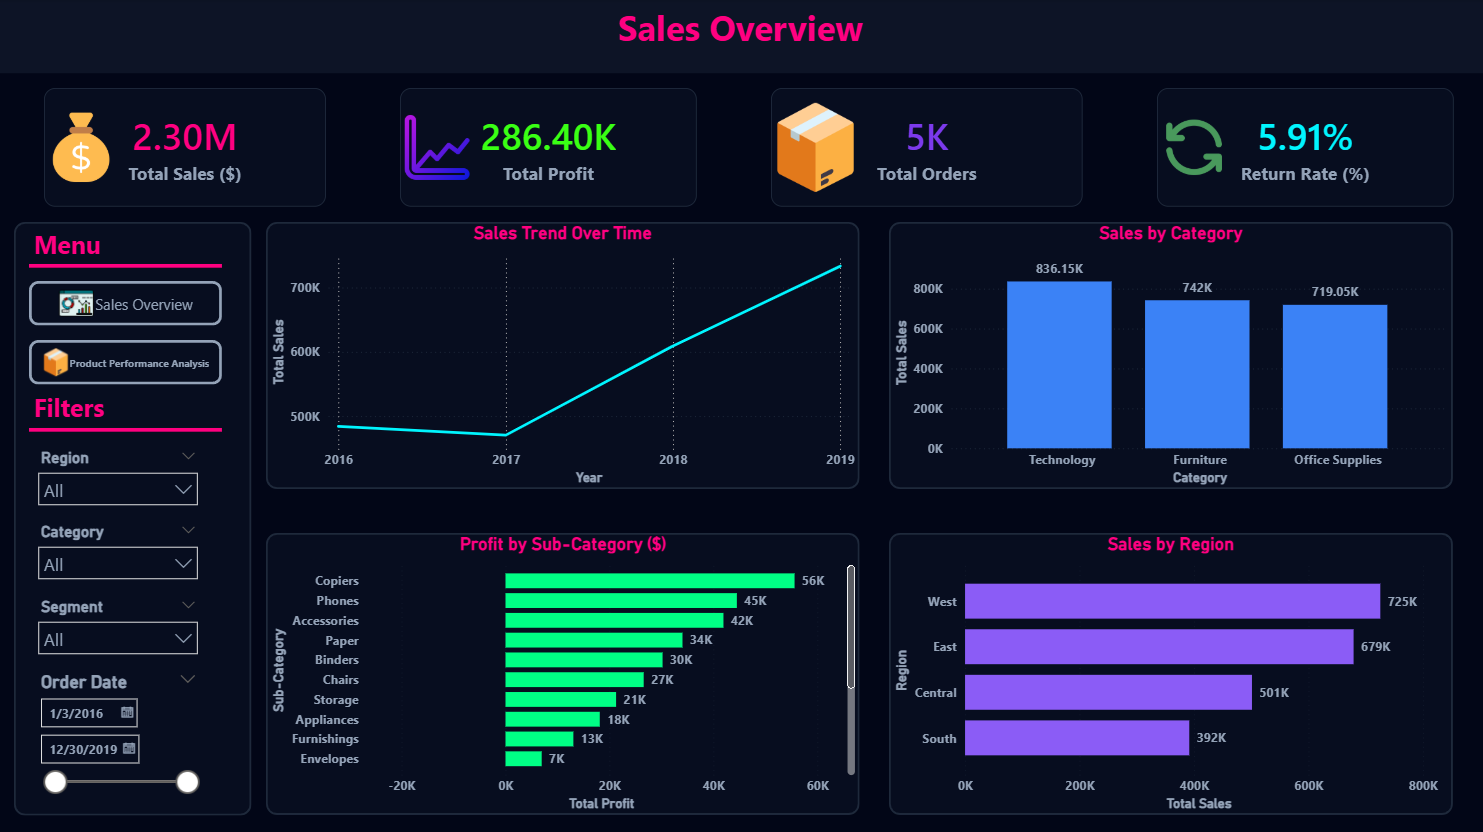

This screenshot's page, from the dashboard's own definition file:
{"tool":"powerbi","page":{"name":"Sales Overview","canvas":[1600,900],"ordinal":0},"visuals":[{"type":"shape","box":[0,0,1600,80],"z":0},{"type":"cardVisual","fields":{"Data":["Measures (2).Total Sales"]},"box":[48,96,304,128],"z":1000},{"type":"cardVisual","fields":{"Data":["Measures (2).Total Profit"]},"box":[432,96,320,128],"z":2000},{"type":"cardVisual","fields":{"Data":["Measures (2).Total Orders"]},"box":[832,96,336,128],"z":3000},{"type":"cardVisual","fields":{"Data":["Measures (2).Return Rate"]},"box":[1248,96,320,128],"z":4000},{"type":"shape","box":[288,240,640,288],"z":5000},{"type":"lineChart","title":"Sales Trend Over Time","fields":{"Category":["Orders.Order Date.Variation.Date Hierarchy.Year","Orders.Order Date.Variation.Date Hierarchy.Quarter","Orders.Order Date.Variation.Date Hierarchy.Month","Orders.Order Date.Variation.Date Hierarchy.Day"],"Y":["Measures (2).Total Sales"]},"box":[288,240,640,288],"z":6000},{"type":"shape","box":[960,240,608,288],"z":7000},{"type":"clusteredColumnChart","title":"Sales by Category","fields":{"Category":["Orders.Category"],"Y":["Measures (2).Total Sales"]},"box":[960,240,608,288],"z":8000},{"type":"shape","box":[288,576,640,304],"z":9000},{"type":"shape","box":[960,576,608,304],"z":10000},{"type":"clusteredBarChart","title":"Profit by Sub-Category ($)","fields":{"Category":["Orders.Sub-Category"],"Y":["Measures (2).Total Profit"]},"box":[288,576,640,304],"z":11000},{"type":"clusteredBarChart","title":"Sales by Region","fields":{"Category":["Orders.Region"],"Y":["Measures (2).Total Sales"]},"box":[960,576,608,304],"z":12000},{"type":"shape","box":[16,240,256,640],"z":13000},{"type":"textbox","box":[32,240,208,48],"z":14000},{"type":"shape","box":[32,272,208,32],"z":15000},{"type":"slicer","fields":{"Values":["Orders.Region"]},"box":[32,480,192,80],"z":16000},{"type":"slicer","fields":{"Values":["Orders.Category"]},"box":[32,560,192,80],"z":17000},{"type":"slicer","fields":{"Values":["Orders.Segment"]},"box":[32,640,192,80],"z":18000},{"type":"slicer","title":"Order Date","fields":{"Values":["Orders.Order Date"]},"box":[32,720,192,160],"z":19000},{"type":"textbox","box":[352,0,896,80],"z":20000},{"type":"image","box":[48,96,80,128],"z":21000},{"type":"image","box":[432,96,80,128],"z":22000},{"type":"image","box":[832,96,96,128],"z":23000},{"type":"image","box":[1248,96,80,128],"z":24000},{"type":"shape","box":[32,448,208,32],"z":25000},{"type":"textbox","box":[32,416,208,48],"z":26000},{"type":"actionButton","box":[32,304,208,48],"z":27000},{"type":"actionButton","box":[32,368,208,48],"z":28000}]}

Visuals, with their boxes in screenshot pixels (x1, y1, x2, y2), scaled from the page's 1600x900 canvas onto the 1483x832 screenshot:
shape: (left=0, top=0, right=1482, bottom=74)
cardVisual - Measures (2).Total Sales: (left=44, top=89, right=326, bottom=207)
cardVisual - Measures (2).Total Profit: (left=400, top=89, right=697, bottom=207)
cardVisual - Measures (2).Total Orders: (left=771, top=89, right=1083, bottom=207)
cardVisual - Measures (2).Return Rate: (left=1157, top=89, right=1453, bottom=207)
shape: (left=267, top=222, right=860, bottom=488)
"Sales Trend Over Time" lineChart: (left=267, top=222, right=860, bottom=488)
shape: (left=890, top=222, right=1453, bottom=488)
"Sales by Category" clusteredColumnChart: (left=890, top=222, right=1453, bottom=488)
shape: (left=267, top=532, right=860, bottom=814)
shape: (left=890, top=532, right=1453, bottom=814)
"Profit by Sub-Category ($)" clusteredBarChart: (left=267, top=532, right=860, bottom=814)
"Sales by Region" clusteredBarChart: (left=890, top=532, right=1453, bottom=814)
shape: (left=15, top=222, right=252, bottom=814)
textbox: (left=30, top=222, right=222, bottom=266)
shape: (left=30, top=251, right=222, bottom=281)
slicer - Orders.Region: (left=30, top=444, right=208, bottom=518)
slicer - Orders.Category: (left=30, top=518, right=208, bottom=592)
slicer - Orders.Segment: (left=30, top=592, right=208, bottom=666)
"Order Date" slicer: (left=30, top=666, right=208, bottom=814)
textbox: (left=326, top=0, right=1157, bottom=74)
image: (left=44, top=89, right=119, bottom=207)
image: (left=400, top=89, right=475, bottom=207)
image: (left=771, top=89, right=860, bottom=207)
image: (left=1157, top=89, right=1231, bottom=207)
shape: (left=30, top=414, right=222, bottom=444)
textbox: (left=30, top=385, right=222, bottom=429)
actionButton: (left=30, top=281, right=222, bottom=325)
actionButton: (left=30, top=340, right=222, bottom=385)
